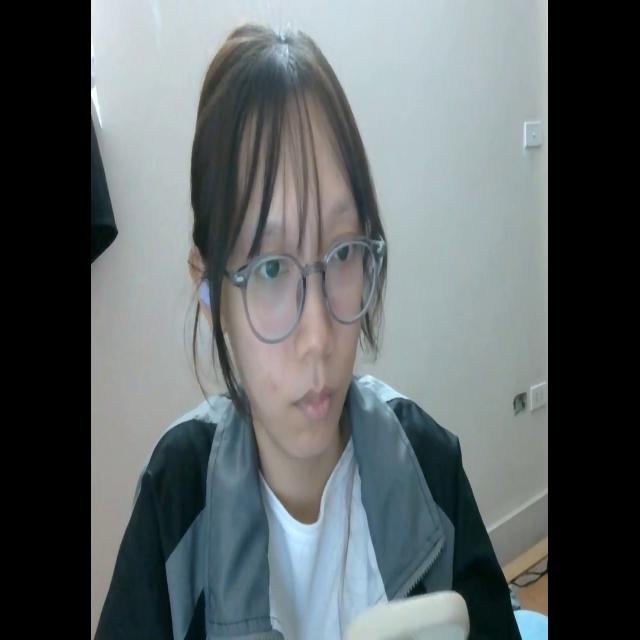student: (103, 21, 526, 640)
